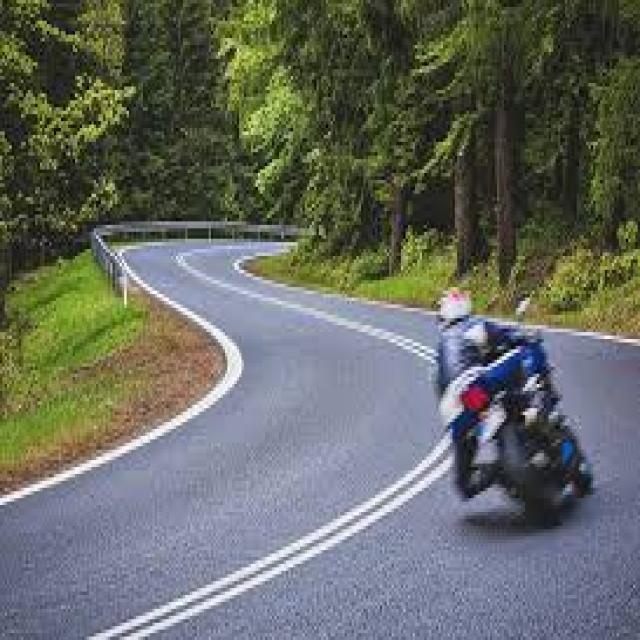MOTORCYCLE: (456, 335, 598, 542)
